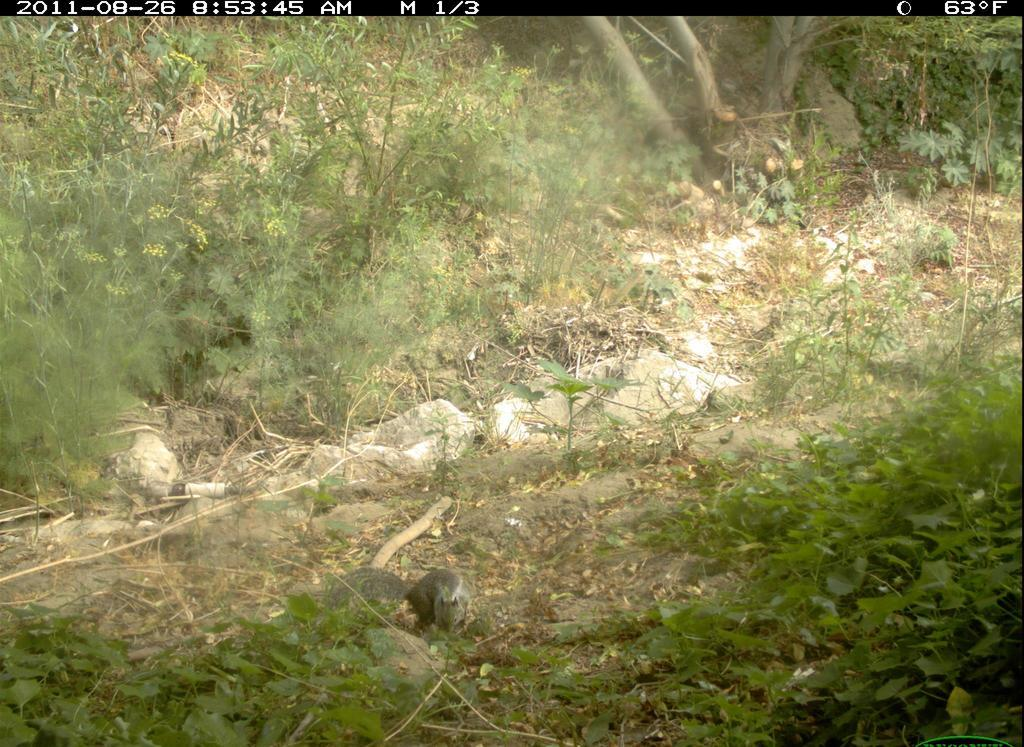squirrel: (322, 564, 488, 646)
